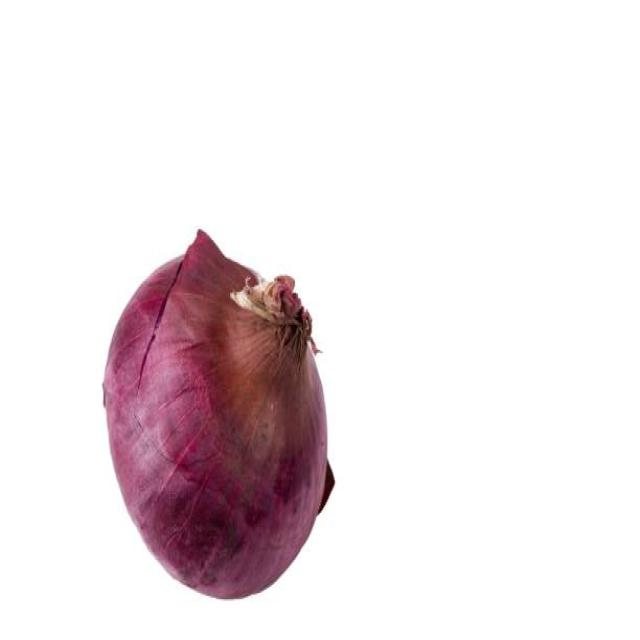onion: (94, 251, 328, 589)
